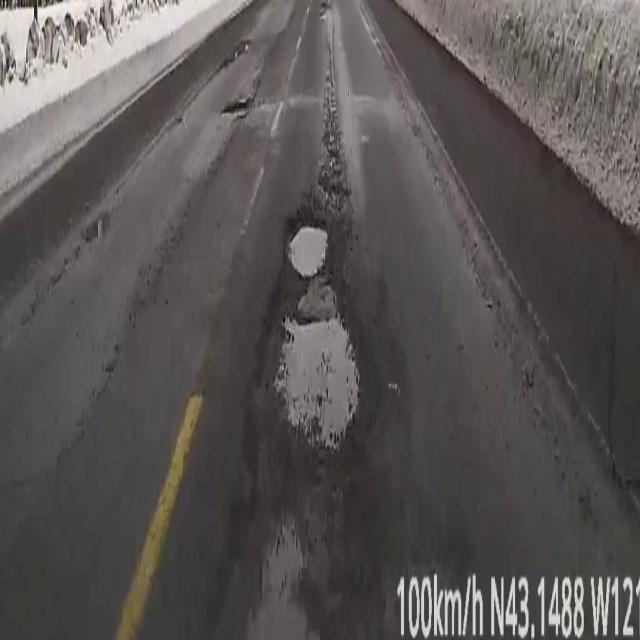pothole: (275, 222, 357, 450), (248, 590, 318, 624)
